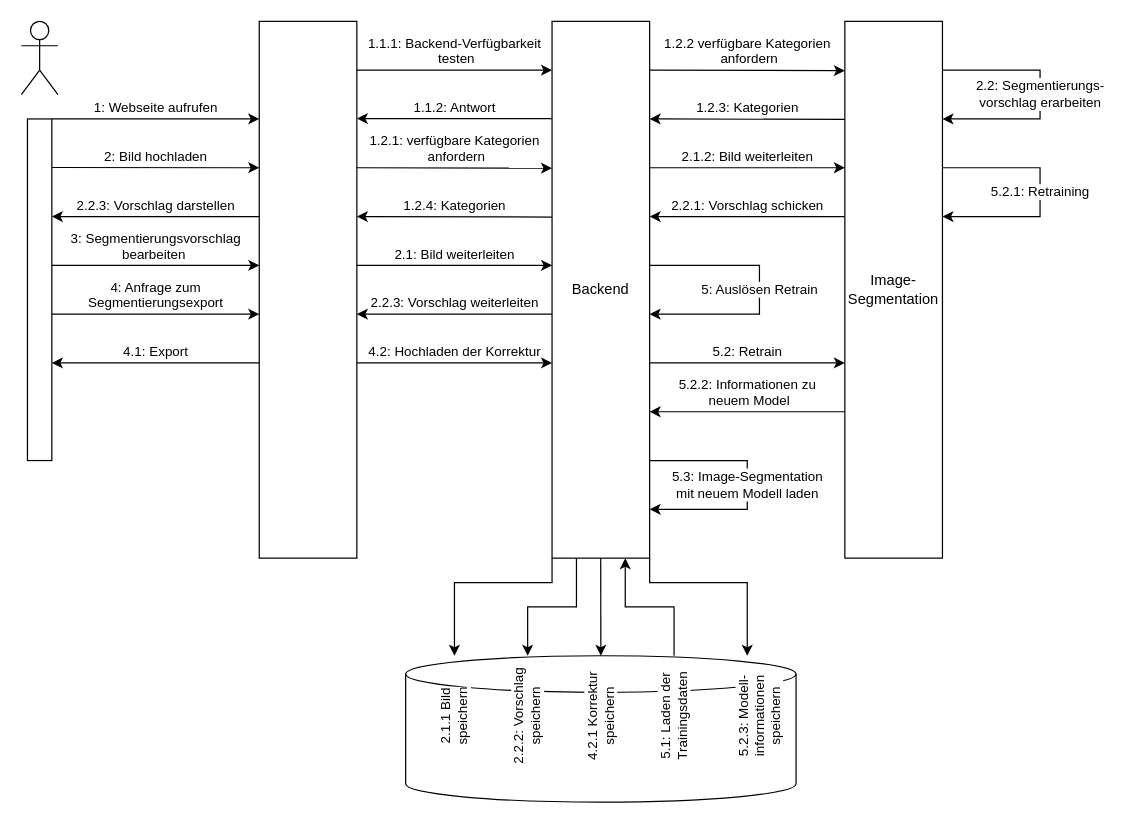
This 1125x824 diagram has some shape labels left out. Each missing label, with the centre of its shape:
"Datenbank" belongs at point 600,728.
"Frontend" belongs at point 307,289.
